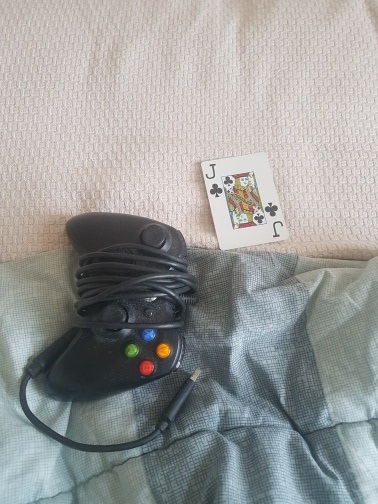jack: (200, 153, 291, 252)
